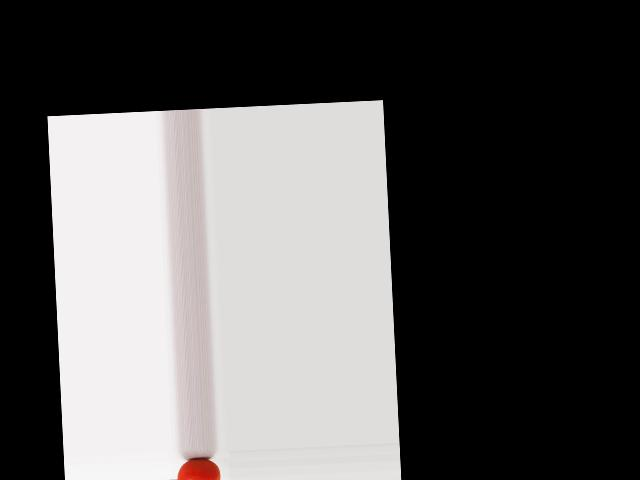tomato: (176, 457, 222, 480)
